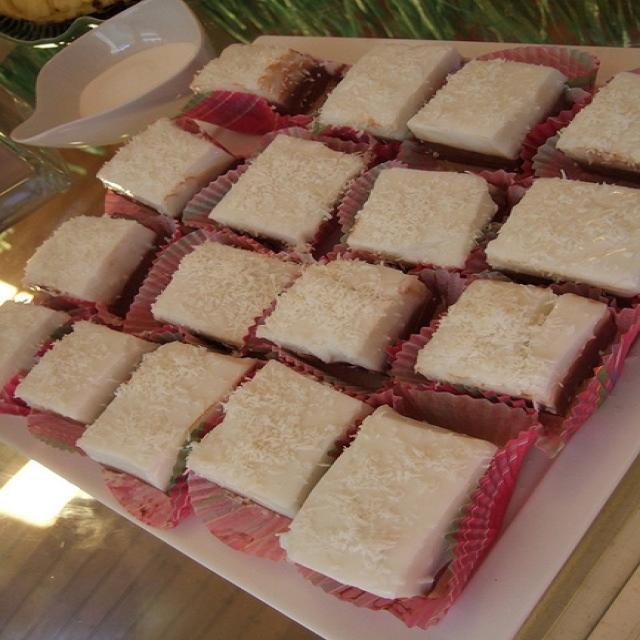蛋糕甜品: (24, 21, 619, 597)
